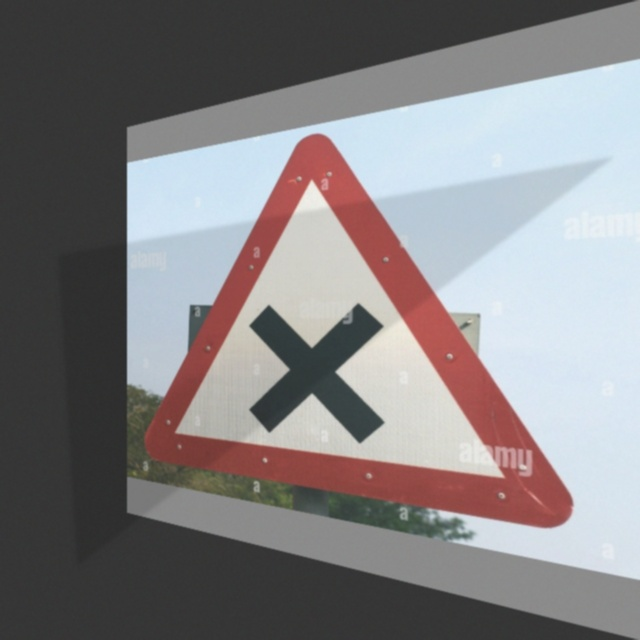Cross_Road: (167, 89, 573, 536)
